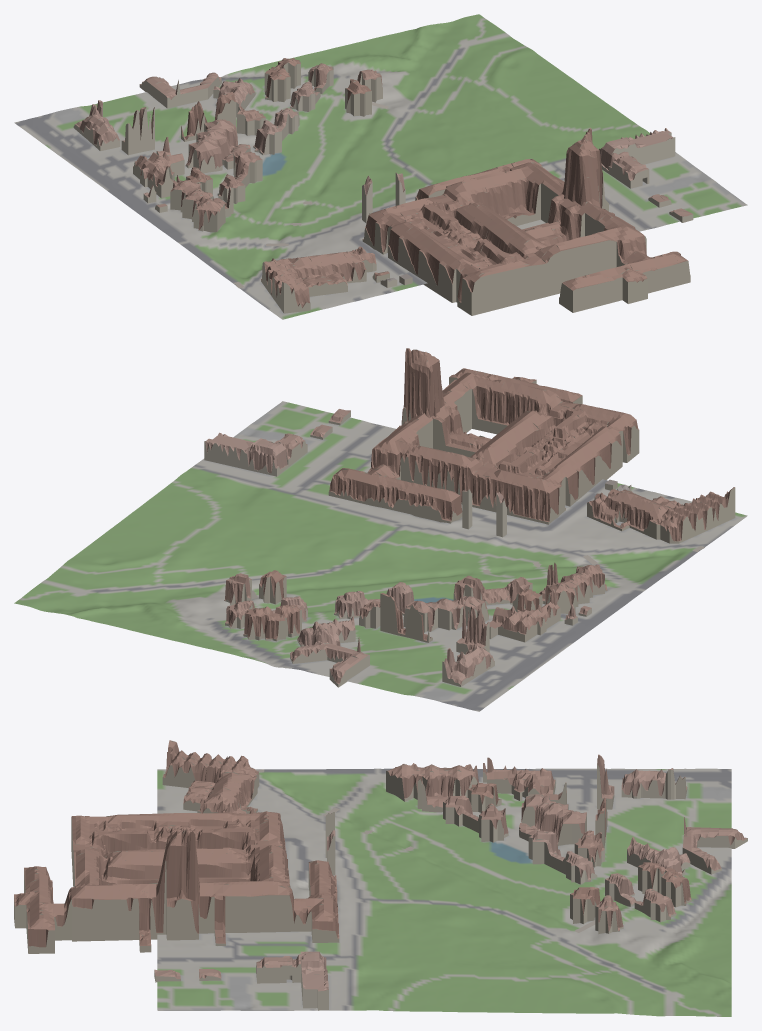
3 views of the same model, one above another, from view 1: azimuth 30°, elevation 25°; view 2: azimuth 150°, elevation 25°; view 3: azimuth 270°, elevation 25° (orthographic). The views are drawn at different scales.
Parts seen in each view (by area): view 1: ground, b:relation/1950099, b:way/117934924, b:way/133762431, b:way/133762426, b:way/139285982, b:way/133762421, b:way/133762409, b:way/133762427, b:way/133762415, b:way/780388997, b:way/133762446 (+9 smaller); view 2: ground, b:relation/1950099, b:way/117934924, b:way/139285982, b:way/133762431, b:way/133762421, b:way/133762409, b:way/780388997, b:way/133762426, b:way/133762446, b:way/166233540, b:way/133762427 (+6 smaller); view 3: ground, b:relation/1950099, b:way/117934924, b:way/133762431, b:way/133762426, b:way/133762421, b:way/133762415, b:way/133762427, b:way/133762409, b:way/133762446, b:way/780388997, b:way/139285982 (+9 smaller).
Boxes of the visible parts, x1,y1,x2,y2 form: ground: (14, 14, 747, 319); b:relation/1950099: (362, 128, 690, 315); b:way/117934924: (261, 246, 376, 313); b:way/133762431: (170, 175, 233, 232); b:way/133762426: (185, 119, 250, 173); b:way/139285982: (599, 128, 675, 173); b:way/133762421: (133, 137, 184, 198); b:way/133762409: (139, 72, 221, 108); b:way/133762427: (217, 150, 262, 203); b:way/133762415: (253, 108, 299, 155); b:way/780388997: (264, 58, 300, 101); b:way/133762446: (73, 100, 120, 151); ground: (14, 401, 747, 711); b:relation/1950099: (328, 348, 639, 524); b:way/117934924: (587, 487, 735, 543); b:way/139285982: (204, 432, 288, 476); b:way/133762431: (539, 562, 607, 613); b:way/133762421: (482, 589, 560, 642); b:way/133762409: (290, 637, 369, 687); b:way/780388997: (243, 605, 301, 641); b:way/133762426: (403, 596, 488, 632); b:way/133762446: (442, 643, 494, 686); b:way/166233540: (380, 593, 432, 642); b:way/133762427: (453, 575, 532, 605); ground: (157, 768, 731, 1016); b:relation/1950099: (14, 811, 339, 953); b:way/117934924: (162, 740, 259, 813); b:way/133762431: (386, 763, 478, 812); b:way/133762426: (519, 794, 586, 846); b:way/133762421: (487, 757, 566, 804); b:way/133762415: (528, 831, 597, 884); b:way/133762427: (443, 795, 508, 842); b:way/133762409: (682, 817, 747, 874); b:way/133762446: (621, 768, 687, 799); b:way/780388997: (638, 862, 691, 907); b:way/139285982: (300, 951, 328, 1010).
Size of the model in its own units: 250 by 55.06 by 320.
